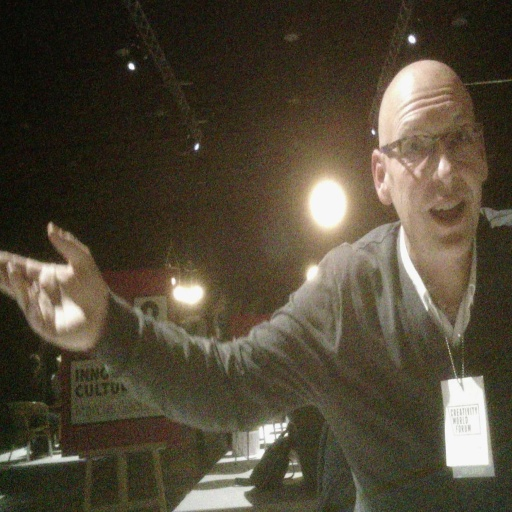hand: (0, 218, 133, 370)
